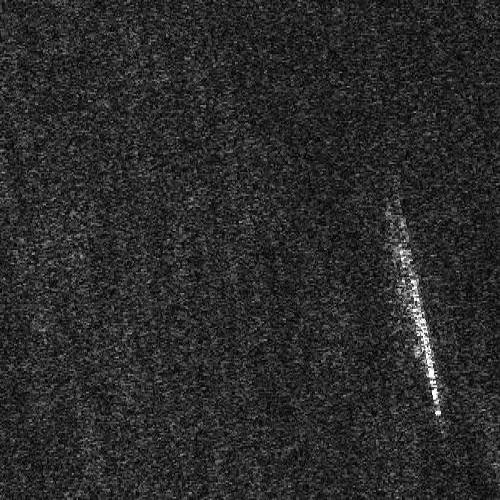ship: (410, 275, 443, 421)
